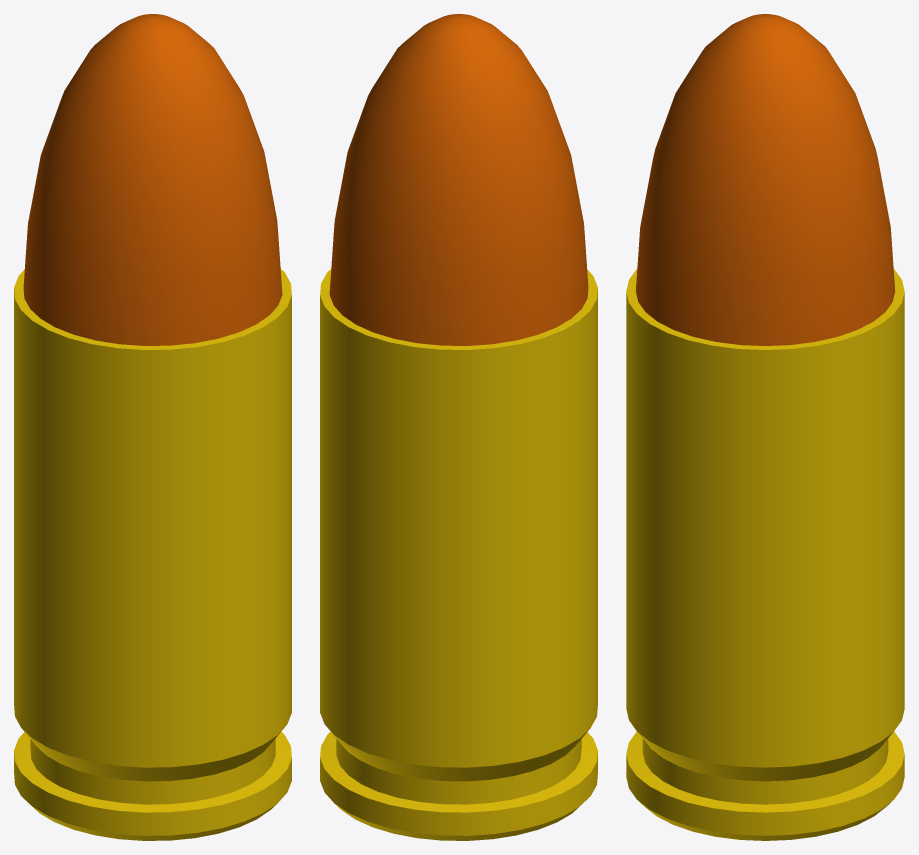
3 views of the same model, side by side, from view 1: azimuth 30°, elevation 25°; view 2: azimuth 150°, elevation 25°; view 3: azimuth 270°, elevation 25° (orthographic).
Parts seen in each view (by area): view 1: Cylinder.001; view 2: Cylinder.001; view 3: Cylinder.001.
Boxes of the visible parts, <box> form: Cylinder.001: <box>14,14,291,840</box>; Cylinder.001: <box>320,14,597,840</box>; Cylinder.001: <box>626,14,904,840</box>.
Size of the model in its own units: 1.06 by 3.21 by 1.06.
